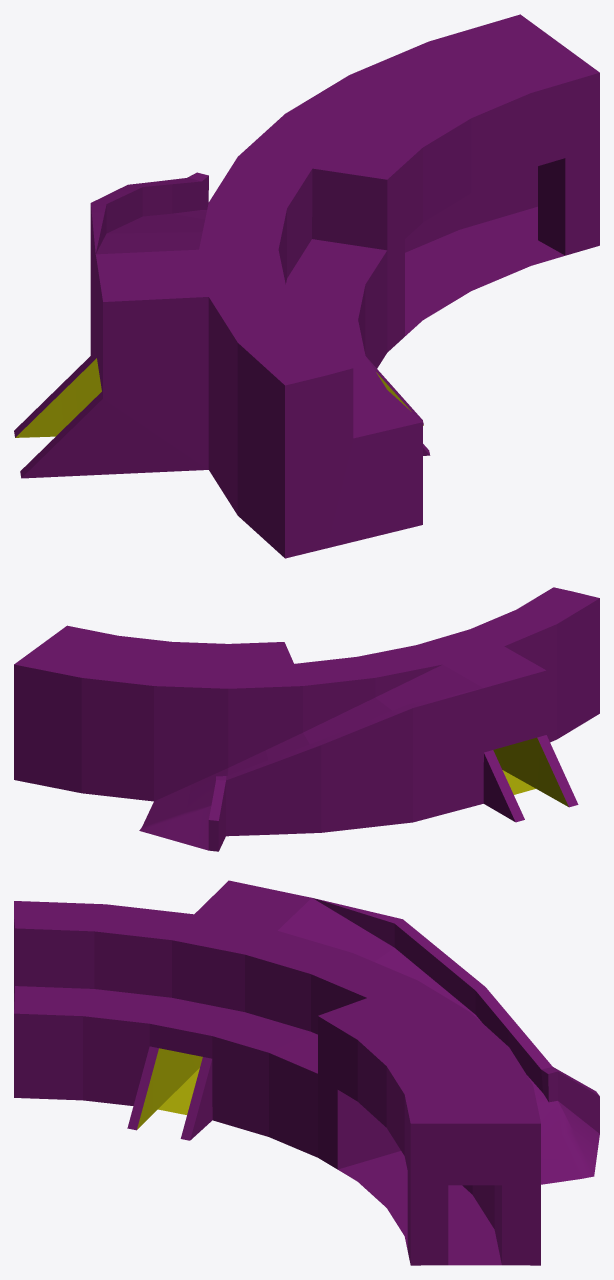
Rendered from outerwall+tunnel_2.fbx.
3 views of the same model, one above another, from view 1: azimuth 30°, elevation 25°; view 2: azimuth 150°, elevation 25°; view 3: azimuth 270°, elevation 25° (orthographic). The views are drawn at different scales.
Parts seen in each view (by area): view 1: polySurface30, polySurface31; view 2: polySurface30, polySurface31; view 3: polySurface30, polySurface31.
Boxes of the visible parts, bbox=[...] form: polySurface30: bbox=[14, 14, 599, 558]; polySurface31: bbox=[15, 358, 423, 437]; polySurface30: bbox=[14, 587, 599, 851]; polySurface31: bbox=[493, 737, 568, 806]; polySurface30: bbox=[14, 880, 599, 1265]; polySurface31: bbox=[137, 1048, 202, 1129].
Size of the model in its own units: 48.32 by 11.88 by 44.47.
